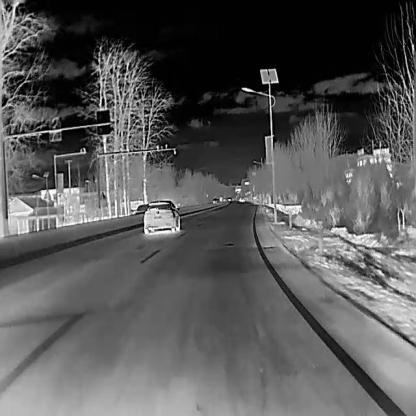car: (143, 199, 180, 233), (133, 203, 149, 215), (239, 196, 245, 202), (212, 198, 216, 203), (227, 197, 231, 201), (219, 196, 222, 201), (222, 198, 226, 201)
